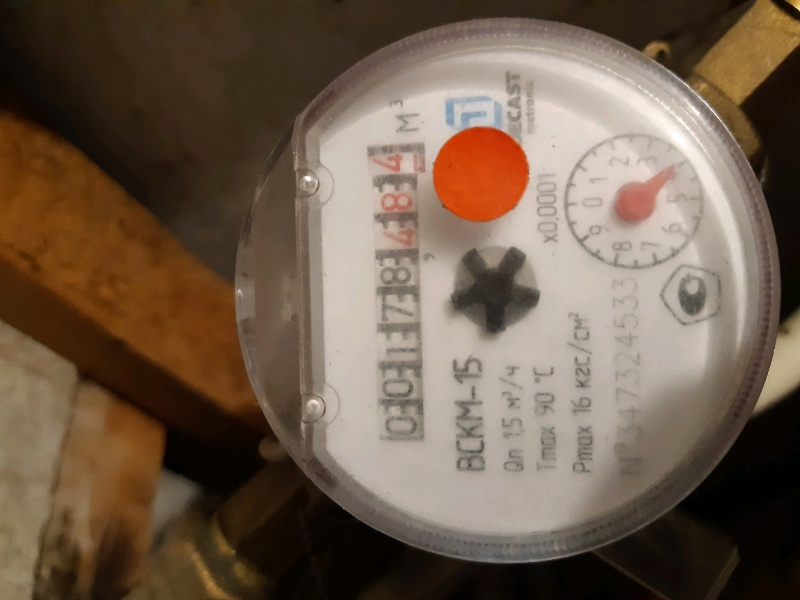meter: (349, 143, 434, 459)
